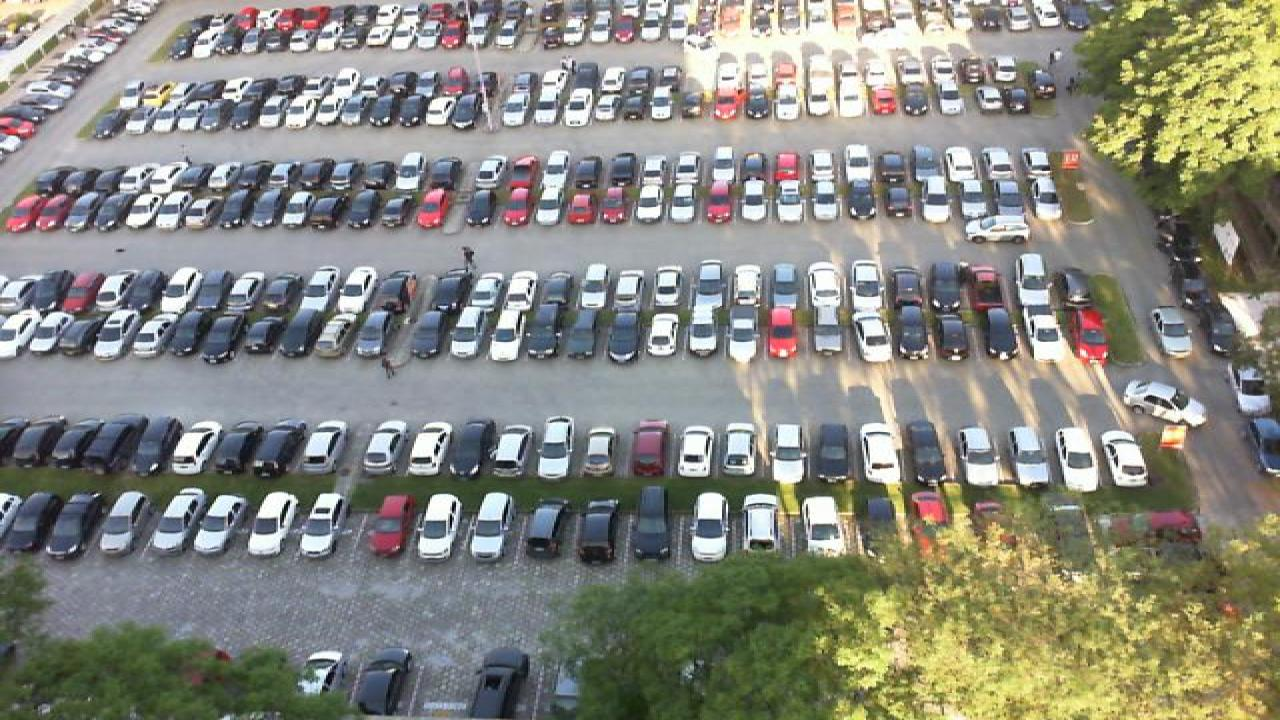Car: (470, 647, 532, 720), (352, 648, 414, 720), (1120, 380, 1210, 428), (628, 483, 674, 562), (204, 492, 260, 556), (96, 492, 148, 560), (158, 488, 210, 556), (362, 495, 414, 560), (30, 492, 80, 559), (256, 492, 306, 558), (418, 491, 464, 562), (1054, 425, 1102, 493), (574, 497, 622, 565), (300, 494, 350, 559), (522, 498, 572, 562), (470, 490, 514, 562), (848, 492, 896, 558), (100, 414, 152, 474), (798, 494, 844, 561), (690, 490, 732, 562), (902, 421, 948, 486), (300, 421, 352, 478), (212, 421, 264, 476), (1006, 424, 1050, 489), (740, 493, 782, 561), (858, 423, 902, 487), (170, 421, 220, 476), (958, 426, 1002, 487), (1106, 430, 1152, 488), (1022, 302, 1068, 360), (452, 419, 496, 478), (904, 492, 950, 548), (934, 304, 978, 362), (50, 417, 96, 472), (254, 422, 300, 477), (364, 421, 410, 476), (408, 421, 454, 476), (1150, 306, 1196, 361), (538, 417, 578, 480), (814, 420, 854, 482), (978, 306, 1022, 362), (850, 307, 894, 362), (676, 425, 720, 479), (630, 419, 670, 478), (806, 307, 848, 363), (1068, 308, 1110, 364), (8, 418, 52, 470), (492, 425, 536, 477), (770, 423, 808, 483), (204, 310, 244, 364), (604, 310, 644, 364), (724, 422, 762, 478), (892, 306, 930, 362), (566, 307, 606, 360), (766, 305, 804, 360), (296, 650, 342, 694), (1234, 362, 1272, 415), (726, 307, 762, 362), (964, 214, 1030, 244), (450, 310, 490, 359), (584, 426, 622, 477), (282, 307, 320, 358), (242, 310, 284, 356), (488, 308, 524, 361), (94, 310, 132, 360), (168, 310, 206, 360), (394, 309, 432, 358), (846, 259, 884, 308), (316, 310, 356, 356), (354, 309, 390, 360), (688, 308, 724, 359), (130, 312, 168, 360), (806, 261, 844, 308), (24, 312, 62, 358), (1202, 308, 1236, 359), (336, 264, 372, 312), (726, 259, 760, 309), (580, 261, 614, 311), (972, 263, 1010, 307), (1016, 252, 1048, 304), (528, 312, 564, 358), (646, 313, 682, 359), (928, 261, 964, 307), (374, 266, 410, 312), (190, 266, 224, 312), (410, 273, 448, 314), (60, 315, 96, 358), (840, 179, 874, 224), (1058, 268, 1096, 308), (264, 268, 298, 312), (26, 269, 60, 313), (952, 178, 986, 222), (702, 185, 738, 226), (692, 264, 724, 310), (0, 308, 30, 357), (4, 195, 42, 233), (32, 194, 70, 232), (300, 271, 336, 311), (92, 192, 128, 232), (466, 188, 502, 228), (226, 271, 260, 313), (92, 271, 126, 313), (632, 183, 666, 225), (916, 180, 950, 222), (990, 177, 1026, 216), (122, 269, 156, 310), (252, 190, 286, 231), (888, 268, 924, 306), (64, 194, 100, 232), (156, 190, 192, 228), (502, 269, 536, 309), (414, 190, 448, 230), (876, 181, 910, 221), (668, 183, 700, 225), (772, 182, 804, 224), (806, 181, 838, 223), (614, 268, 648, 307), (466, 270, 500, 309), (156, 269, 188, 310), (500, 188, 532, 229), (738, 183, 770, 224), (766, 268, 800, 306), (652, 268, 686, 306), (186, 192, 220, 230), (220, 192, 254, 230), (316, 192, 350, 230), (532, 188, 566, 226), (350, 191, 382, 231), (60, 272, 92, 310), (126, 192, 158, 230), (382, 192, 414, 230), (598, 187, 630, 225), (284, 192, 316, 229), (542, 271, 574, 307), (566, 188, 596, 226), (0, 274, 26, 312)
